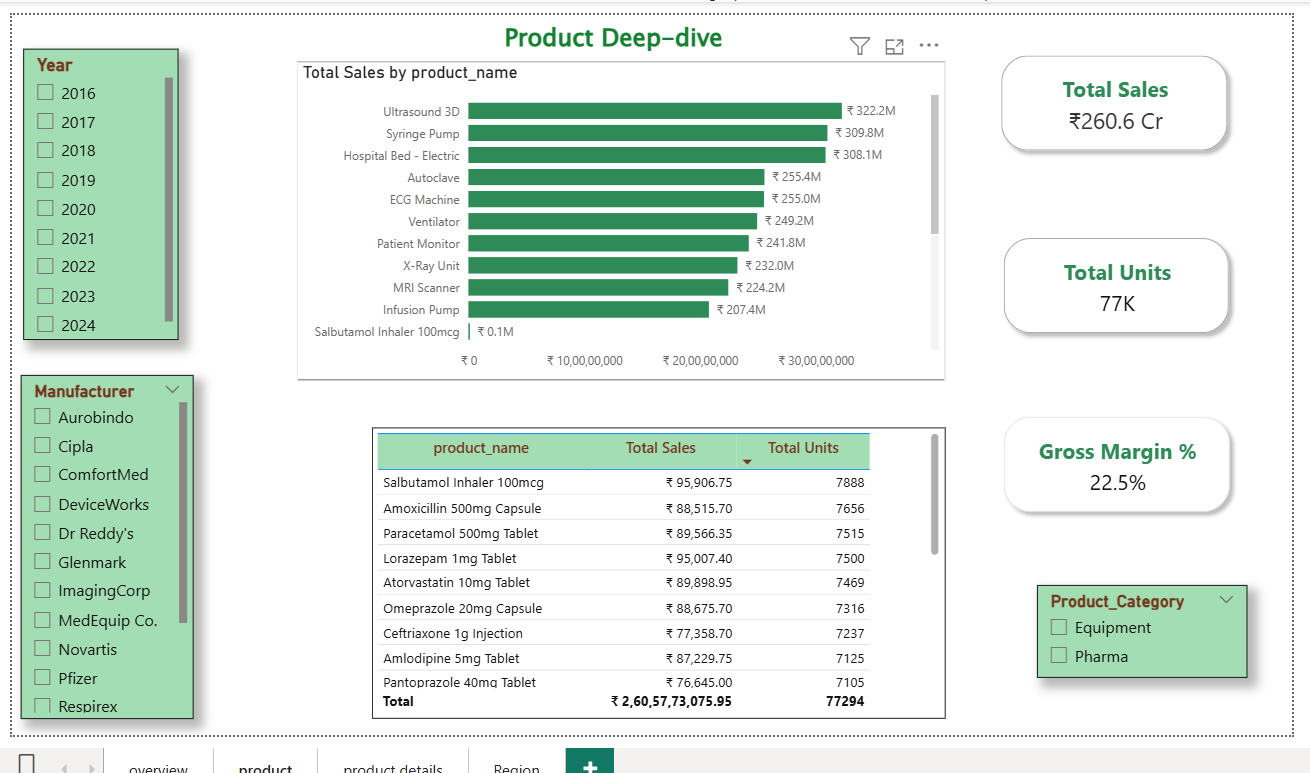

Layout of this report page (visuals, bound fields, positions):
{"tool":"powerbi","page":{"name":"product","canvas":[1280,720],"ordinal":1},"visuals":[{"type":"textbox","box":[487.9,0,242.1,46.5],"z":4000},{"type":"slicer","fields":{"Values":["sales.year"]},"box":[11,34.2,155.3,291],"z":5000},{"type":"slicer","fields":{"Values":["sales.product_category"]},"box":[1025,570,210,92.5],"z":6000},{"type":"slicer","fields":{"Values":["sales.manufacturer"]},"box":[8.8,360,172.5,343.8],"z":7000},{"type":"clusteredBarChart","fields":{"Category":["sales.product_name"],"Y":["sales.Total Sales"]},"box":[284.9,46.5,648.1,319.2],"z":8000},{"type":"pivotTable","fields":{"Rows":["sales.product_name"],"Values":["sales.Total Sales","sales.Total Units"]},"box":[359.5,412.1,573.5,291],"z":9000},{"type":"cardVisual","fields":{"Data":["sales.Total Sales (Cr Text)"]},"box":[972.2,23.2,260.5,129.6],"z":10000},{"type":"cardVisual","fields":{"Data":["sales.Total Units"]},"box":[974.6,206.7,259.2,129.6],"z":11000},{"type":"cardVisual","fields":{"Data":["sales.Gross Margin %"]},"box":[974.6,385.2,260.5,129.6],"z":12000}]}

Visuals, with their boxes on the page's 1280x720 design canvas (x1, y1, x2, y2). These are canvas units, not pixel positions in the 1310x773 screenshot, which may show the page scaled, cropped or inside an application window:
textbox: left=488, top=0, right=730, bottom=46
slicer - sales.year: left=11, top=34, right=166, bottom=325
slicer - sales.product_category: left=1025, top=570, right=1235, bottom=662
slicer - sales.manufacturer: left=9, top=360, right=181, bottom=704
clusteredBarChart - sales.product_name x sales.Total Sales: left=285, top=46, right=933, bottom=366
pivotTable - sales.product_name x sales.Total Sales: left=360, top=412, right=933, bottom=703
cardVisual - sales.Total Sales (Cr Text): left=972, top=23, right=1233, bottom=153
cardVisual - sales.Total Units: left=975, top=207, right=1234, bottom=336
cardVisual - sales.Gross Margin %: left=975, top=385, right=1235, bottom=515
